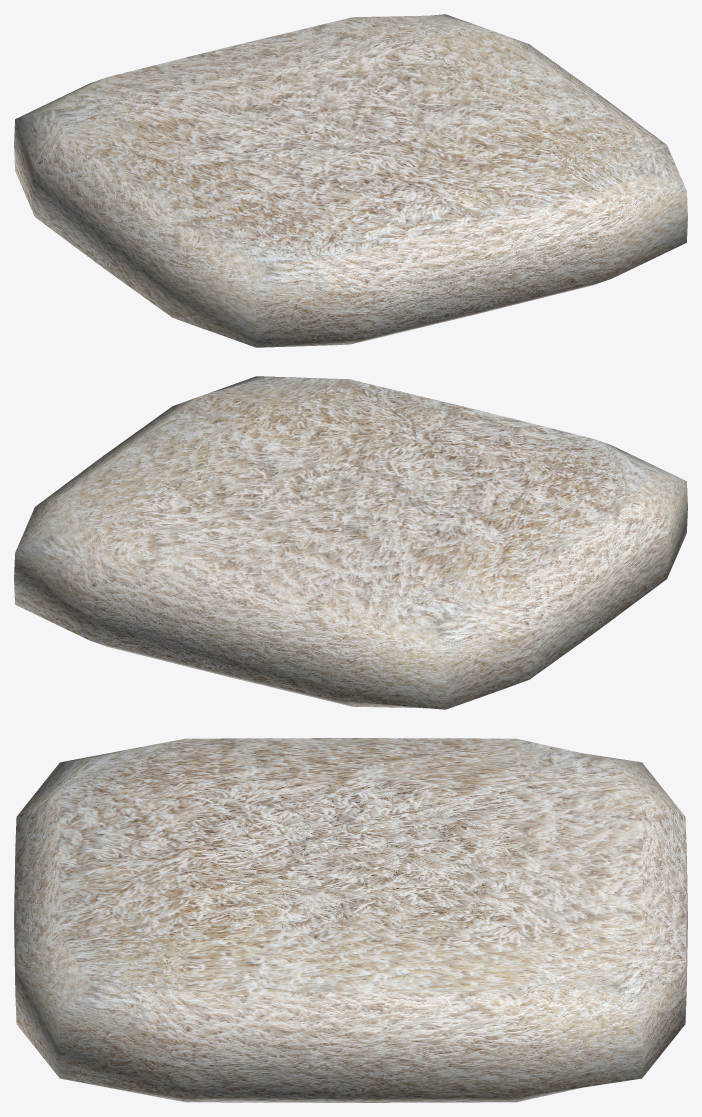
The model's file is cushion.fbx.
3 renders of one model, top to bottom at view 1: azimuth 30°, elevation 25°; view 2: azimuth 150°, elevation 25°; view 3: azimuth 270°, elevation 25°, orthographic. The views are drawn at different scales.
Parts seen in each view (by area): view 1: cushion; view 2: cushion; view 3: cushion.
Part boxes in pixels (box(x1,y1,x2,y2)): cushion: box(14, 14, 687, 347); cushion: box(14, 376, 687, 709); cushion: box(14, 738, 687, 1102).
Bounding box in the file's own units: 979 × 198 × 950.
